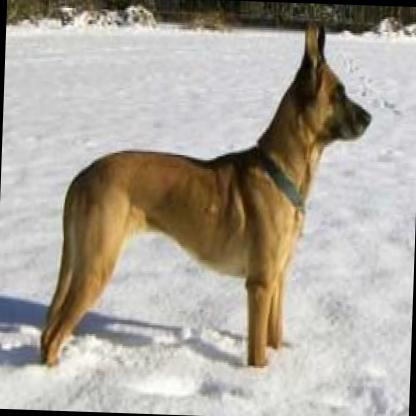malinois: (36, 12, 375, 374)
